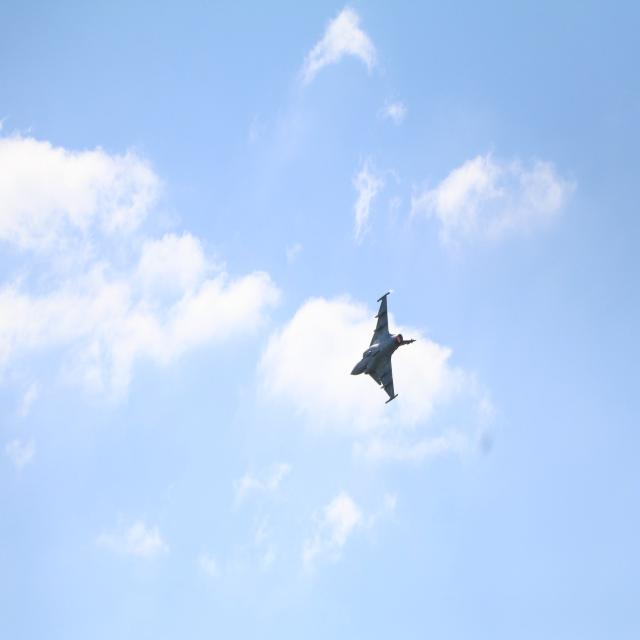MIL_Plane: (347, 292, 417, 404)
